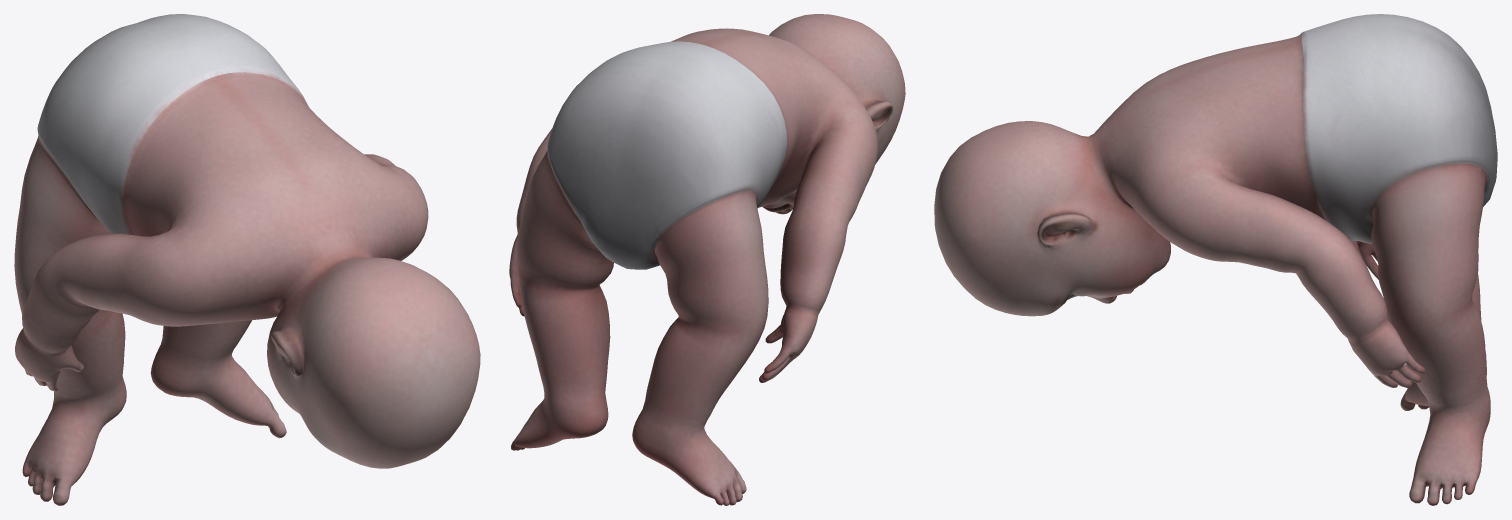
The model's file is baby.obj.
The picture shows the model from 3 angles, left to right: view 1: azimuth 30°, elevation 25°; view 2: azimuth 150°, elevation 25°; view 3: azimuth 270°, elevation 25°; orthographic projection. The views are drawn at different scales.
Visible parts, largest first — view 1: SittingBaby; view 2: SittingBaby; view 3: SittingBaby.
Boxes of the visible parts, bbox=[...] form: SittingBaby: bbox=[14, 14, 480, 505]; SittingBaby: bbox=[509, 14, 905, 505]; SittingBaby: bbox=[934, 14, 1497, 505].
Size of the model in its own units: 15.34 by 19.76 by 23.47.
1 material, 1 textured.
